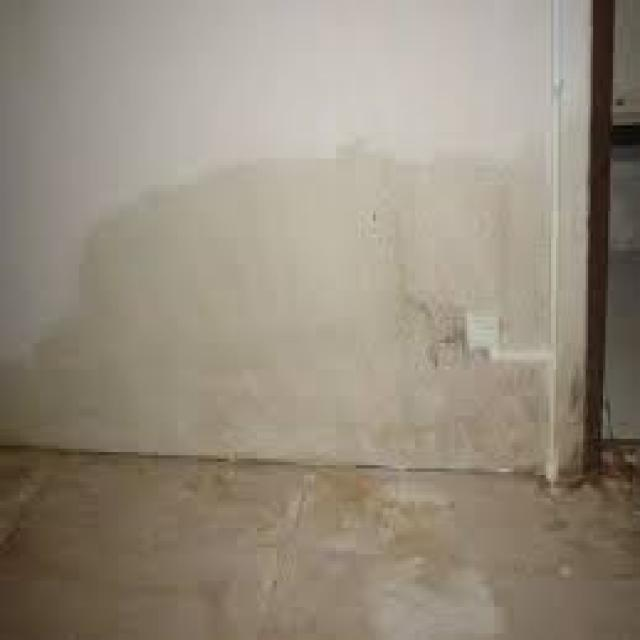stain_mould: (6, 140, 550, 472)
